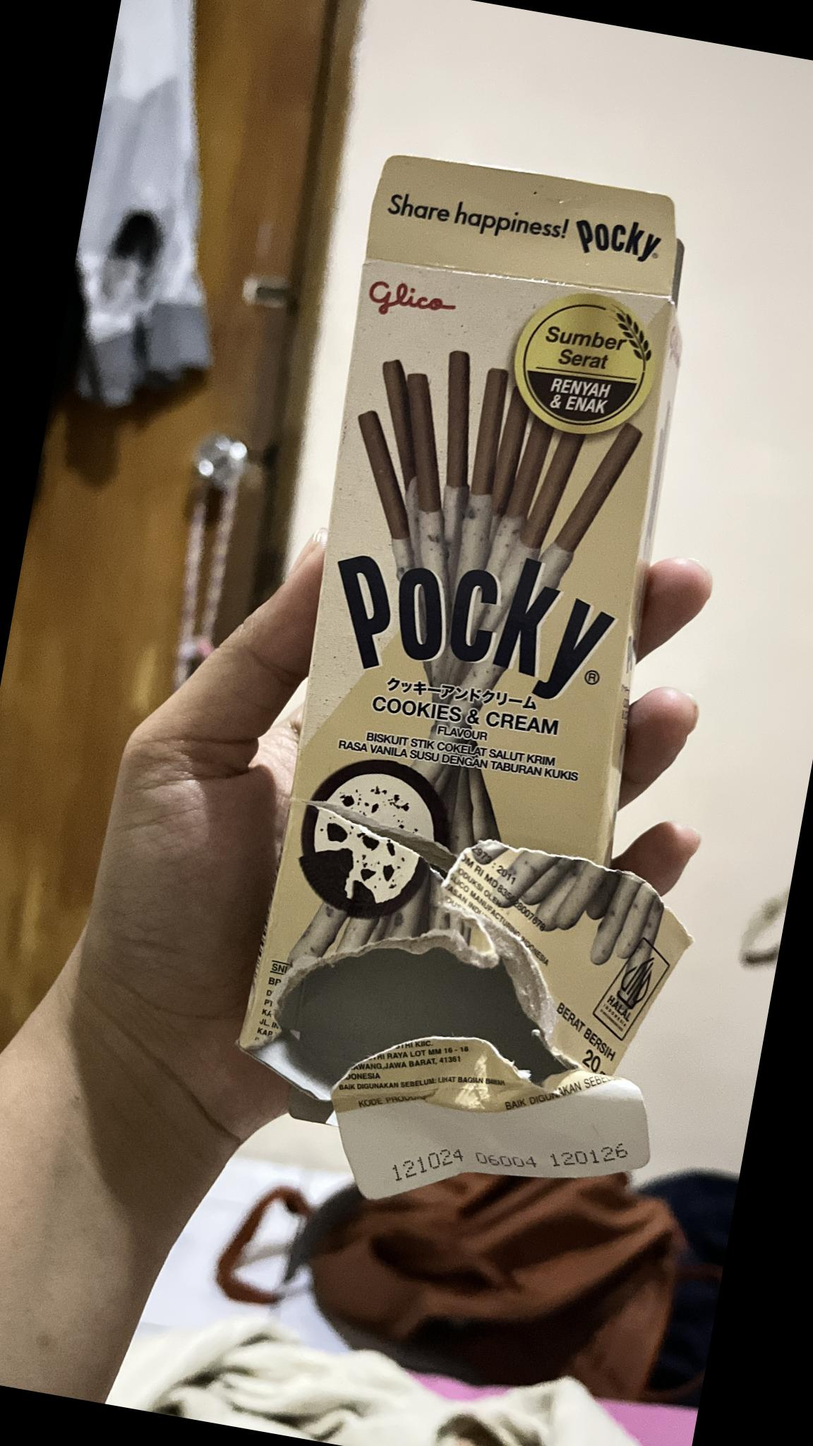Kertas: (232, 257, 676, 1093)
